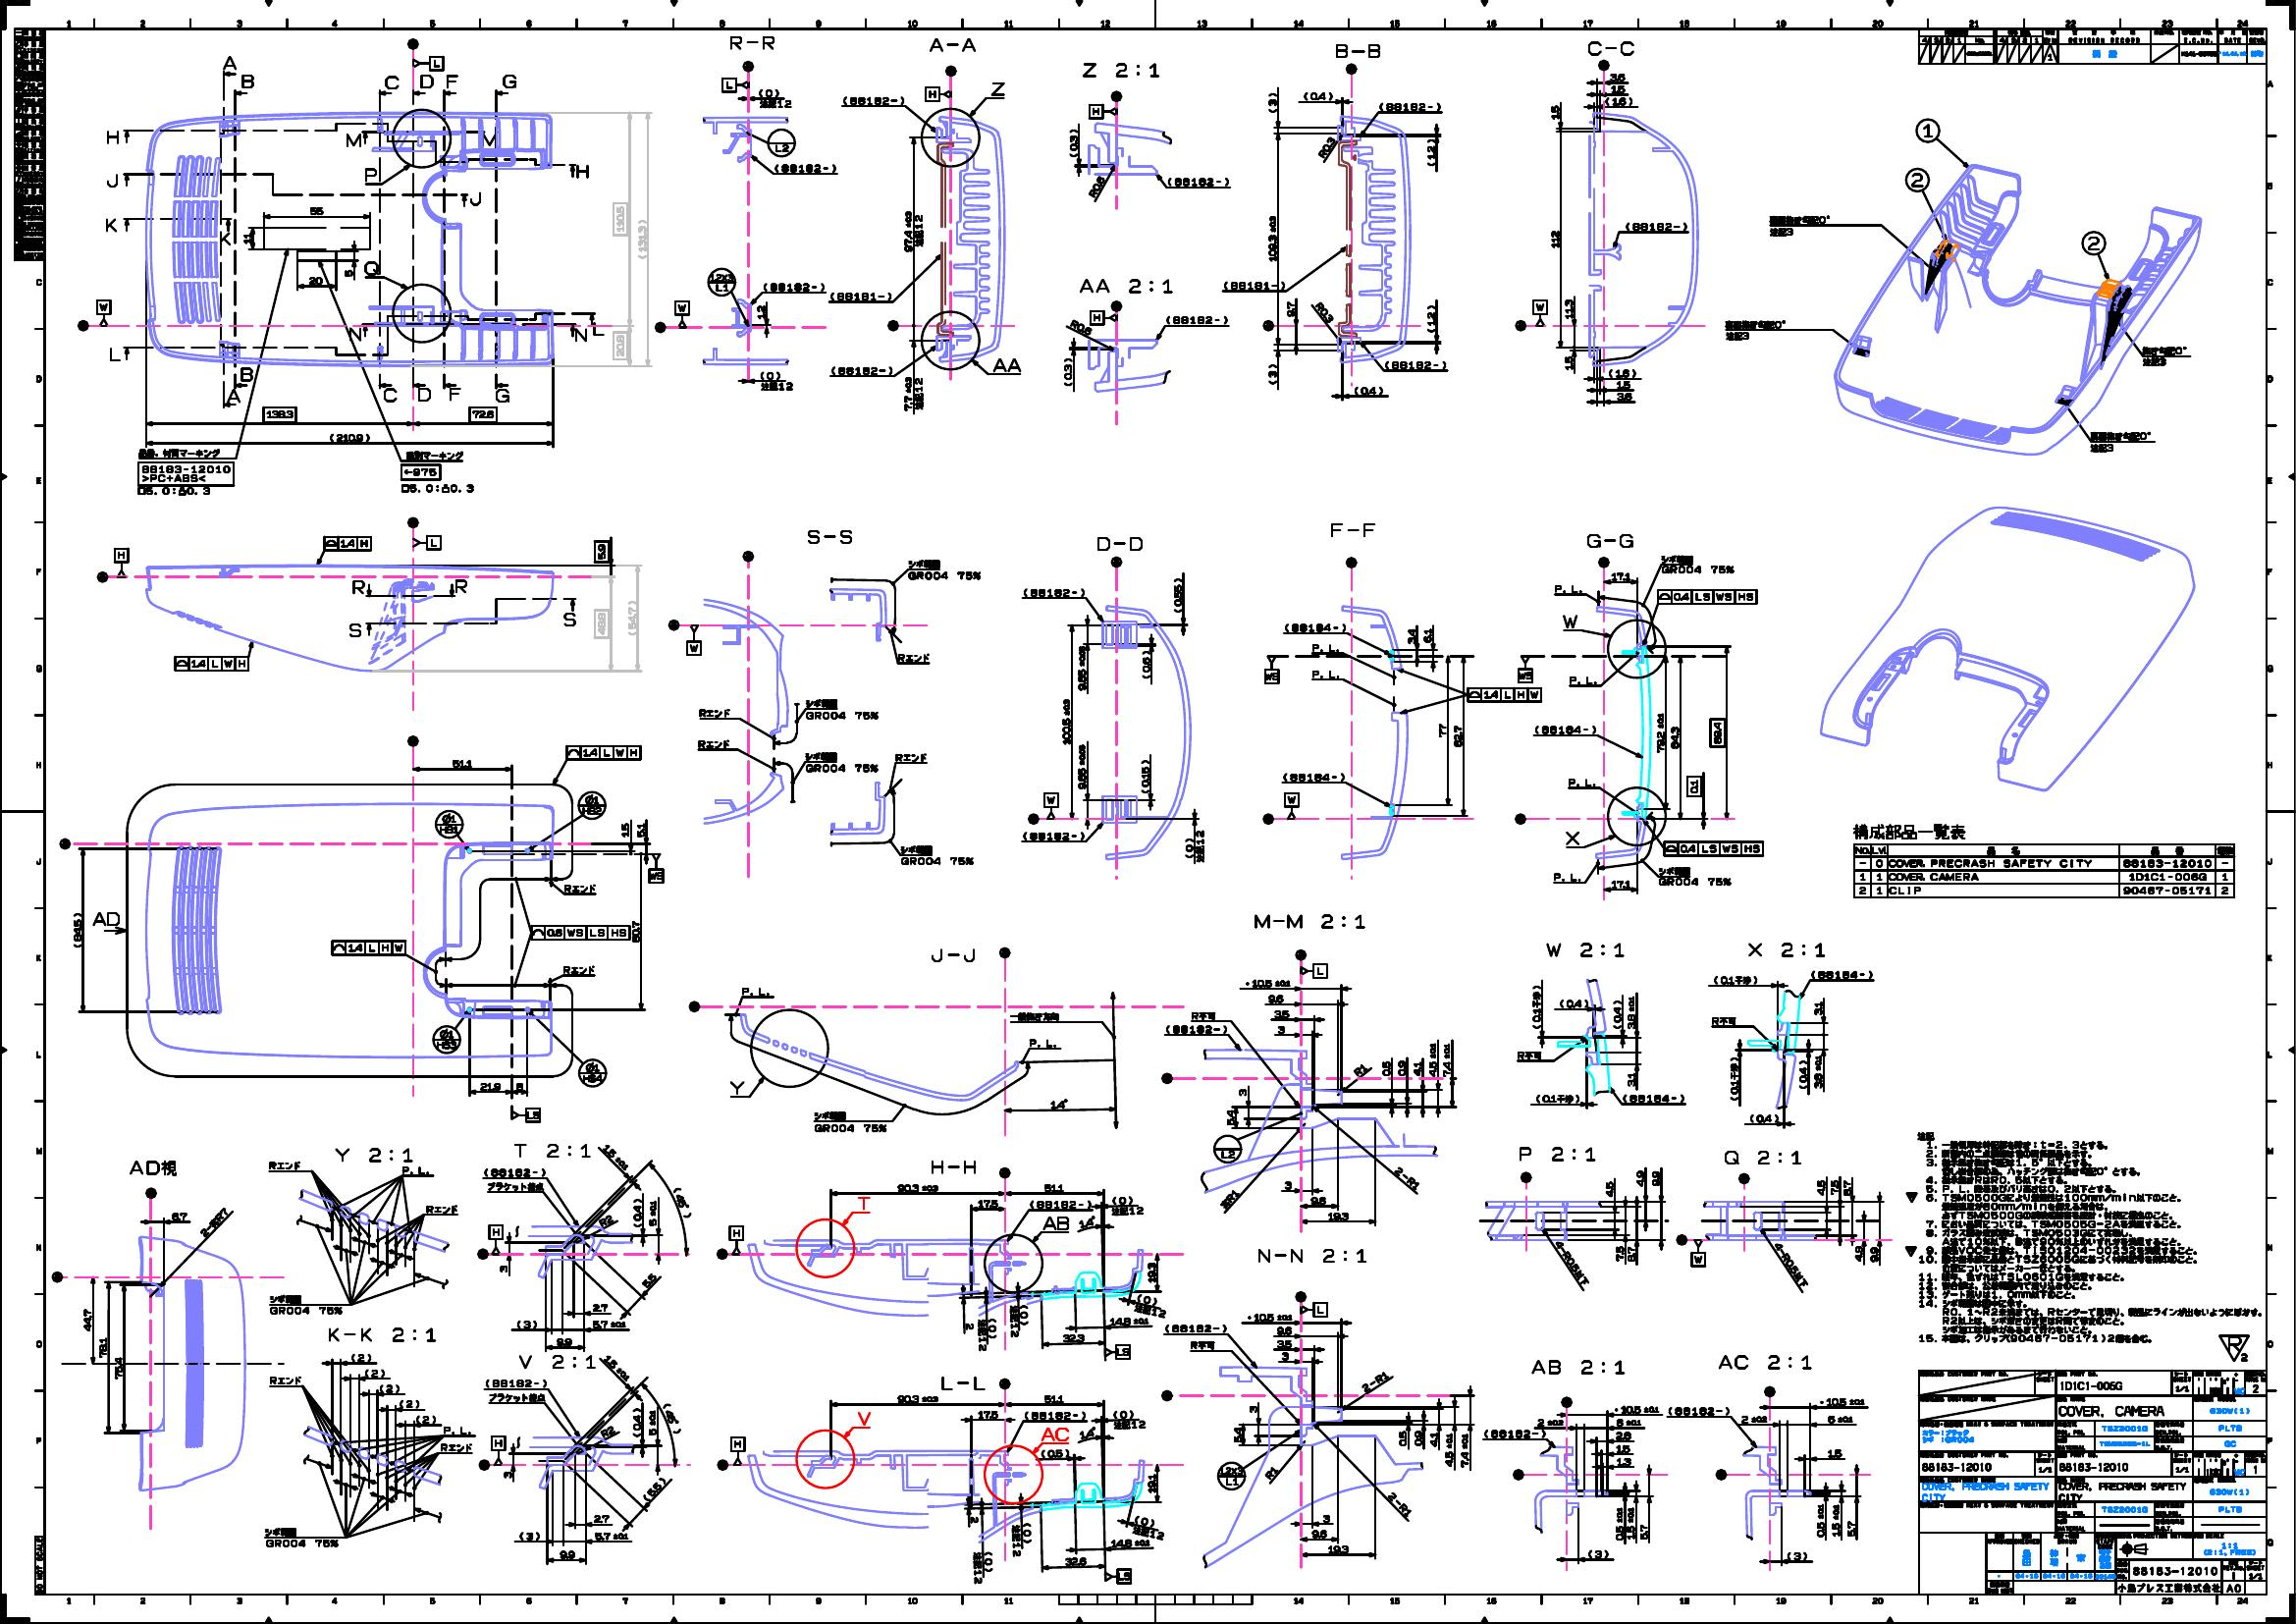anntotation_text: (1903, 1127, 2264, 1346), (1848, 821, 2236, 903), (135, 446, 235, 496), (397, 450, 476, 496), (1251, 912, 1367, 933), (1254, 1246, 1372, 1265), (327, 1327, 437, 1345), (1530, 1357, 1627, 1376), (899, 844, 975, 868), (803, 698, 878, 722), (1662, 840, 1764, 858), (905, 559, 982, 582), (803, 750, 880, 773), (812, 1111, 887, 1134), (264, 1527, 339, 1550), (269, 1294, 344, 1316), (1077, 278, 1173, 295), (1716, 1353, 1811, 1371), (1765, 214, 1832, 239), (1722, 316, 1788, 341), (1660, 554, 1736, 575), (1657, 865, 1732, 886), (1657, 589, 1757, 605), (1516, 1144, 1597, 1164), (1722, 1149, 1802, 1169), (531, 924, 629, 940), (1080, 62, 1159, 81), (511, 1141, 590, 1160), (516, 1352, 594, 1371), (336, 1146, 416, 1164), (2090, 431, 2152, 453), (566, 743, 641, 761), (1544, 942, 1627, 958), (1746, 942, 1825, 958), (1465, 685, 1542, 701), (172, 656, 248, 671), (330, 940, 406, 956), (430, 808, 466, 840), (1210, 1132, 1242, 1165), (2217, 1332, 2252, 1362), (726, 33, 778, 53), (764, 127, 796, 158), (2141, 344, 2189, 366), (1326, 520, 1377, 540), (938, 1374, 989, 1394), (928, 1158, 978, 1178), (1585, 533, 1639, 550), (1333, 40, 1383, 60), (704, 267, 736, 297), (432, 1025, 462, 1056), (1216, 1461, 1247, 1490), (840, 93, 906, 107), (1093, 534, 1145, 552), (126, 1158, 179, 1176), (1667, 1404, 1732, 1418), (1585, 39, 1635, 56), (576, 791, 608, 819), (578, 1058, 606, 1090), (771, 162, 840, 174), (1913, 116, 1941, 146), (926, 37, 978, 53), (1532, 722, 1599, 735), (1166, 176, 1231, 188), (1377, 102, 1442, 114), (1221, 278, 1286, 290), (1809, 967, 1874, 979), (1163, 1322, 1228, 1334), (2080, 228, 2108, 257), (829, 290, 892, 302), (1282, 620, 1346, 633), (806, 527, 854, 543), (321, 536, 372, 550), (1762, 1258, 1820, 1271), (487, 1179, 545, 1192), (1281, 772, 1347, 782), (1021, 587, 1087, 598), (1904, 165, 1931, 192), (1165, 315, 1230, 325), (1383, 360, 1448, 371), (1623, 220, 1688, 230), (1022, 1410, 1087, 1420), (762, 281, 826, 292), (829, 364, 892, 374), (1021, 830, 1084, 840), (1483, 1427, 1546, 1438), (1029, 1199, 1093, 1209), (483, 1167, 546, 1178), (485, 1378, 548, 1388), (1623, 1093, 1685, 1104), (1727, 1056, 1741, 1102), (35, 1534, 46, 1594), (1542, 1258, 1600, 1269), (929, 949, 978, 961), (1165, 1025, 1230, 1033), (1040, 1425, 1072, 1443), (991, 357, 1021, 374), (1263, 654, 1281, 684), (729, 1225, 747, 1255), (1530, 982, 1541, 1032), (415, 533, 441, 552), (488, 1392, 546, 1401), (685, 624, 701, 656), (93, 910, 121, 928), (1713, 974, 1758, 984), (112, 547, 128, 576), (648, 852, 664, 882), (1690, 1237, 1706, 1267), (1300, 1301, 1330, 1316), (1282, 791, 1300, 817), (1010, 1011, 1063, 1019), (1302, 961, 1328, 979), (1535, 1093, 1579, 1104), (1105, 1343, 1131, 1360), (1008, 1522, 1021, 1559), (675, 301, 690, 329), (1089, 309, 1117, 325), (1551, 582, 1583, 596), (1105, 1568, 1133, 1584), (1042, 1216, 1070, 1232), (490, 1436, 506, 1464), (1195, 830, 1207, 865), (971, 1550, 984, 1585), (267, 1158, 302, 1171), (1110, 1204, 1145, 1216), (488, 1223, 502, 1253), (95, 299, 111, 325), (1532, 299, 1548, 325), (1042, 793, 1058, 819), (560, 965, 594, 977), (740, 984, 773, 997), (360, 165, 379, 186), (381, 383, 401, 404), (757, 381, 796, 392), (1089, 104, 1117, 118), (1518, 656, 1532, 684), (511, 1107, 539, 1121), (731, 1436, 745, 1464), (913, 374, 924, 411), (564, 882, 596, 895), (437, 1441, 474, 1452), (344, 130, 364, 149), (104, 170, 123, 190), (102, 214, 121, 234), (104, 346, 123, 366), (225, 387, 244, 406), (592, 320, 611, 339), (924, 86, 950, 100), (913, 213, 924, 248), (892, 752, 928, 763), (1112, 1418, 1147, 1429), (1008, 1304, 1019, 1339), (1131, 1308, 1166, 1318), (1567, 775, 1597, 787), (1028, 1035, 1058, 1048), (1188, 1339, 1217, 1352), (697, 738, 731, 749), (977, 1318, 987, 1352), (269, 1374, 302, 1385), (399, 1165, 432, 1176), (220, 54, 239, 72), (239, 72, 256, 91), (385, 74, 402, 93), (420, 70, 437, 90), (443, 72, 460, 91), (502, 72, 520, 91), (469, 188, 487, 207), (480, 132, 499, 149), (104, 127, 121, 146), (239, 364, 256, 383), (214, 228, 232, 248), (364, 260, 381, 279), (346, 325, 364, 344), (495, 387, 513, 406), (571, 327, 588, 346), (1567, 675, 1599, 685), (1551, 872, 1583, 882), (898, 652, 929, 663), (729, 1077, 745, 1098), (1133, 1527, 1165, 1538), (722, 77, 748, 90), (1312, 668, 1342, 678), (1709, 1016, 1739, 1026), (574, 163, 592, 181), (415, 387, 432, 404), (446, 387, 464, 404), (856, 1193, 873, 1211), (423, 1204, 458, 1213), (142, 1185, 160, 1202), (989, 79, 1005, 98), (1312, 642, 1340, 652), (1189, 1011, 1217, 1021), (1516, 1049, 1544, 1060), (759, 98, 792, 107), (697, 708, 731, 717), (1560, 613, 1578, 629), (441, 1425, 473, 1434), (350, 576, 364, 596), (564, 610, 576, 631), (1565, 830, 1581, 845), (740, 548, 755, 564), (856, 1410, 871, 1425), (348, 622, 362, 640), (455, 576, 469, 594), (74, 318, 91, 332), (1159, 1070, 1173, 1086), (49, 1269, 63, 1285), (666, 619, 680, 633), (406, 515, 420, 529), (1026, 810, 1040, 824), (1597, 555, 1611, 569), (945, 63, 959, 77), (653, 320, 668, 334), (1520, 1171, 1534, 1185), (1560, 1396, 1574, 1410), (1159, 1388, 1173, 1403), (998, 1376, 1012, 1390), (715, 1459, 729, 1473), (404, 37, 420, 49), (996, 1165, 1012, 1178), (1261, 318, 1274, 332), (1513, 320, 1527, 332), (1261, 812, 1275, 824), (1513, 812, 1527, 824), (1346, 555, 1358, 569), (58, 838, 72, 851), (998, 946, 1012, 958), (1108, 299, 1123, 311), (885, 320, 898, 334), (1293, 947, 1305, 961), (1674, 1234, 1688, 1246), (1736, 1172, 1750, 1185), (1762, 1385, 1776, 1397), (1293, 1290, 1307, 1302), (715, 1246, 727, 1260), (478, 1457, 490, 1471), (1110, 557, 1123, 569), (95, 571, 107, 584), (408, 735, 420, 747), (689, 1000, 701, 1012), (1597, 60, 1609, 72), (741, 60, 754, 72), (1715, 1468, 1727, 1480), (1346, 62, 1356, 76), (1112, 90, 1123, 104), (478, 1246, 488, 1260), (1513, 1469, 1525, 1480)
dimension_text: (1059, 698, 1073, 745), (613, 202, 631, 237), (1267, 213, 1279, 262), (1244, 975, 1291, 988), (262, 406, 297, 422), (1077, 742, 1087, 791), (1075, 643, 1086, 692), (1818, 1396, 1866, 1406), (636, 218, 648, 258), (594, 610, 611, 638), (1247, 1311, 1293, 1322), (903, 209, 913, 255), (1709, 717, 1725, 747), (613, 330, 629, 360), (467, 406, 497, 422), (896, 1183, 940, 1193), (1655, 710, 1665, 754), (599, 1362, 636, 1374), (195, 1216, 232, 1229), (675, 1186, 689, 1218), (1748, 1111, 1780, 1125), (597, 1151, 632, 1164), (1110, 1315, 1151, 1325), (666, 1403, 678, 1436), (72, 910, 83, 949), (1815, 1501, 1825, 1540), (1686, 775, 1706, 796), (896, 1394, 942, 1403), (1614, 1404, 1660, 1413), (329, 432, 374, 441), (590, 1318, 627, 1329), (1426, 1040, 1437, 1077), (1460, 1432, 1470, 1469), (1140, 758, 1151, 794), (1426, 302, 1439, 334), (1440, 1042, 1451, 1077), (1444, 1432, 1455, 1468), (1614, 1504, 1625, 1540), (1627, 995, 1637, 1030), (594, 1531, 629, 1541), (1611, 998, 1623, 1028), (1110, 1538, 1151, 1547), (1173, 575, 1182, 615), (1302, 91, 1335, 102), (1425, 137, 1437, 165), (362, 1366, 386, 1380), (397, 1397, 422, 1411), (903, 374, 912, 413), (1040, 1448, 1072, 1459), (1391, 1174, 1423, 1185), (1558, 998, 1590, 1009), (1797, 1058, 1808, 1090), (1140, 649, 1151, 680), (1607, 367, 1639, 378), (1353, 385, 1384, 395), (629, 599, 638, 636), (1813, 1053, 1822, 1090), (1451, 722, 1463, 749), (1310, 308, 1337, 320), (415, 1413, 437, 1427), (631, 1197, 641, 1227), (1384, 1499, 1414, 1510), (1535, 1417, 1565, 1427), (631, 1408, 641, 1438), (1627, 1506, 1635, 1541), (1830, 1503, 1839, 1538), (478, 1079, 502, 1091), (1216, 1193, 1240, 1206), (516, 1529, 541, 1541), (641, 1483, 669, 1494), (973, 1408, 1001, 1418), (1614, 1417, 1643, 1427), (646, 1410, 657, 1438), (1358, 1376, 1391, 1385), (515, 1316, 538, 1329), (1326, 1209, 1349, 1222), (1586, 1547, 1609, 1559), (757, 86, 780, 98), (350, 1350, 372, 1362), (378, 1383, 401, 1396), (1063, 1555, 1089, 1566), (1061, 1332, 1087, 1343), (631, 917, 641, 944), (1741, 1413, 1767, 1424), (1669, 724, 1679, 750), (1312, 144, 1339, 155), (1068, 127, 1077, 158), (1066, 322, 1093, 332), (81, 1306, 91, 1332), (97, 1334, 107, 1360), (112, 1355, 123, 1381), (1825, 1413, 1855, 1422), (1604, 97, 1634, 105), (1063, 357, 1072, 387), (1112, 1408, 1137, 1418), (1147, 1471, 1158, 1496), (1022, 1520, 1033, 1545), (1267, 362, 1279, 383), (648, 1199, 657, 1227), (1147, 1260, 1158, 1283), (1019, 1304, 1029, 1327), (1326, 1543, 1349, 1554), (1184, 837, 1195, 859), (1609, 571, 1632, 582), (1267, 91, 1277, 114), (757, 369, 780, 380), (1082, 183, 1108, 192), (1077, 1218, 1098, 1229), (1112, 1193, 1133, 1204), (1787, 1550, 1808, 1561), (1609, 879, 1630, 889), (1563, 299, 1574, 320), (1549, 228, 1560, 250), (984, 1548, 993, 1573), (450, 758, 474, 766), (1267, 991, 1284, 1004), (1275, 1338, 1293, 1350), (592, 1512, 610, 1524), (597, 1427, 617, 1438), (555, 1336, 574, 1346), (1639, 1522, 1650, 1541), (1846, 1519, 1857, 1538), (169, 1211, 188, 1222), (638, 1276, 661, 1285), (1042, 1394, 1065, 1403), (1137, 1295, 1159, 1304), (1042, 1183, 1065, 1192), (977, 1199, 1000, 1207), (987, 1316, 996, 1339), (1616, 1455, 1632, 1468), (1650, 1171, 1662, 1186), (755, 304, 768, 320), (307, 274, 323, 286), (307, 204, 323, 216), (1079, 1429, 1096, 1439), (597, 1216, 615, 1227), (1137, 1515, 1154, 1526), (1049, 1098, 1066, 1109), (620, 821, 631, 838), (1272, 1007, 1289, 1018), (1309, 1195, 1326, 1206), (1351, 1065, 1368, 1076), (1231, 1425, 1242, 1443), (1263, 1468, 1281, 1478), (1310, 1527, 1328, 1538), (1614, 1431, 1632, 1441), (1867, 1244, 1878, 1262), (1815, 1179, 1825, 1197), (1635, 1169, 1646, 1186), (1604, 1179, 1614, 1197), (1405, 627, 1416, 645), (1614, 380, 1632, 390), (1549, 104, 1560, 121), (1609, 72, 1627, 83), (966, 1513, 980, 1526), (636, 823, 646, 838), (1381, 1060, 1391, 1076), (1275, 1325, 1291, 1336), (1616, 1443, 1632, 1454), (1841, 1179, 1852, 1195), (1625, 1072, 1635, 1088), (1437, 722, 1448, 738), (1563, 355, 1574, 371), (1224, 1107, 1233, 1125), (1397, 1058, 1405, 1076), (1412, 1060, 1421, 1077), (1414, 1429, 1423, 1446), (1830, 1179, 1839, 1197), (1627, 1244, 1635, 1262), (1614, 1244, 1623, 1262), (1616, 392, 1634, 401), (559, 1550, 576, 1559), (515, 1081, 527, 1093), (1827, 1446, 1841, 1457), (1813, 1000, 1823, 1014), (592, 1302, 608, 1311), (1430, 1431, 1439, 1446), (1853, 1244, 1862, 1260), (1286, 299, 1293, 318), (497, 1264, 509, 1274), (1281, 1350, 1291, 1362), (1398, 1431, 1407, 1445), (1423, 629, 1432, 643), (1609, 86, 1627, 93), (502, 1469, 513, 1480), (963, 1322, 975, 1330), (1282, 1178, 1291, 1190), (242, 232, 251, 244), (1238, 1086, 1247, 1097), (1247, 1404, 1258, 1413), (344, 267, 353, 278), (1275, 1025, 1284, 1033), (1321, 1513, 1330, 1522)
object: (125, 780, 578, 1081), (1830, 162, 2203, 459), (1818, 504, 2199, 794), (144, 105, 555, 367), (703, 575, 899, 845), (1203, 1364, 1426, 1570), (144, 562, 555, 673), (745, 1446, 1147, 1543), (1202, 1044, 1439, 1197), (747, 1237, 1145, 1320), (726, 1011, 1029, 1118), (135, 1234, 248, 1496), (1586, 112, 1700, 366), (1100, 601, 1191, 861), (703, 112, 792, 367), (1595, 592, 1669, 868), (1333, 112, 1412, 364), (933, 112, 1007, 364), (1340, 605, 1411, 861), (297, 1186, 450, 1255), (1534, 1443, 1625, 1534), (302, 1425, 443, 1483), (1741, 1445, 1815, 1541), (1556, 975, 1613, 1097), (1746, 986, 1801, 1109), (529, 1434, 636, 1490), (529, 1222, 632, 1280), (1084, 120, 1173, 179), (1483, 1199, 1602, 1243), (1700, 1199, 1818, 1243), (1087, 336, 1172, 392)
title_block: (1917, 1369, 2268, 1596), (1917, 28, 2268, 65), (12, 26, 44, 262)
